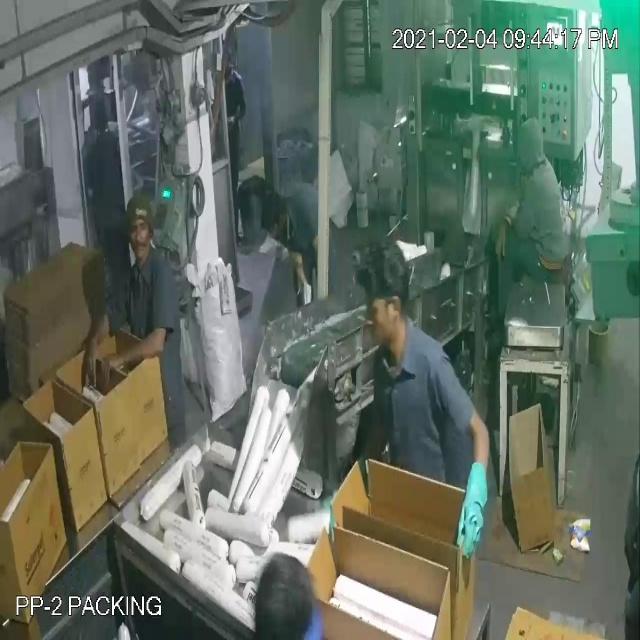Guantes: (450, 436, 500, 579)
Sin_guantes: (100, 324, 172, 389), (75, 300, 119, 391), (486, 200, 517, 273)
